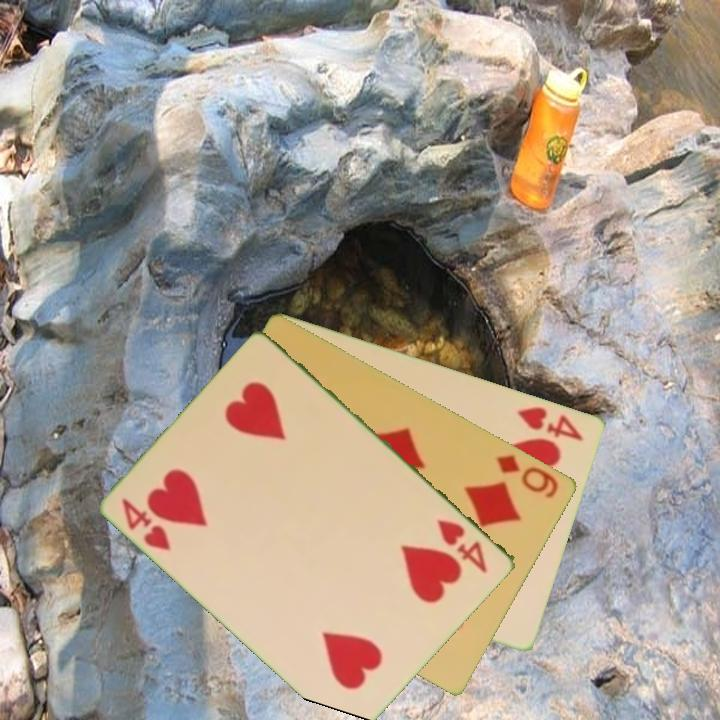4h: (433, 515, 491, 576), (118, 495, 175, 554), (513, 403, 587, 444)
6d: (493, 451, 562, 501)
